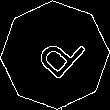P_SW: (24, 23, 86, 87)
